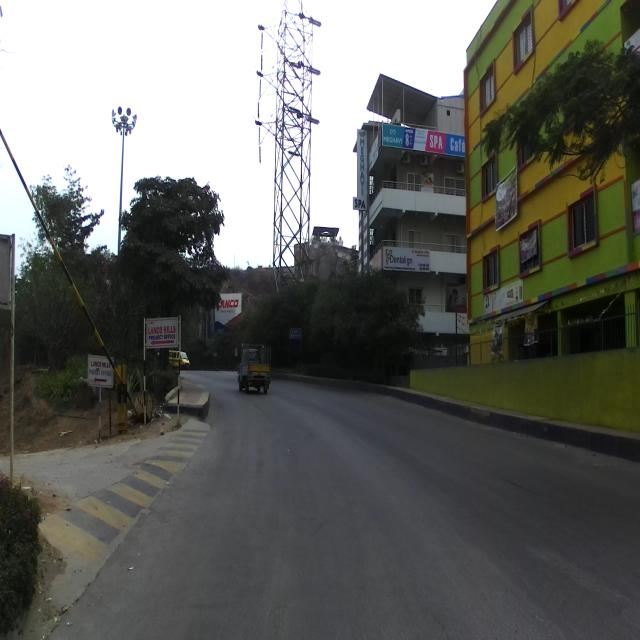truck ahead at: (234, 340, 272, 398)
